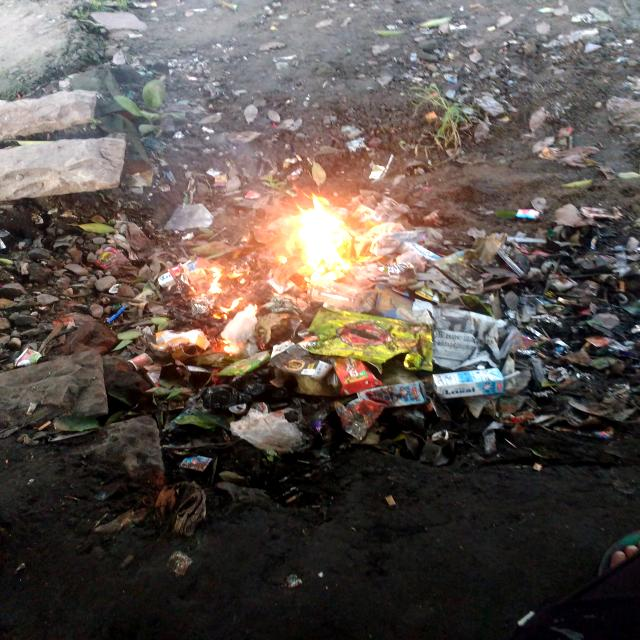Fire: (281, 190, 386, 288)
